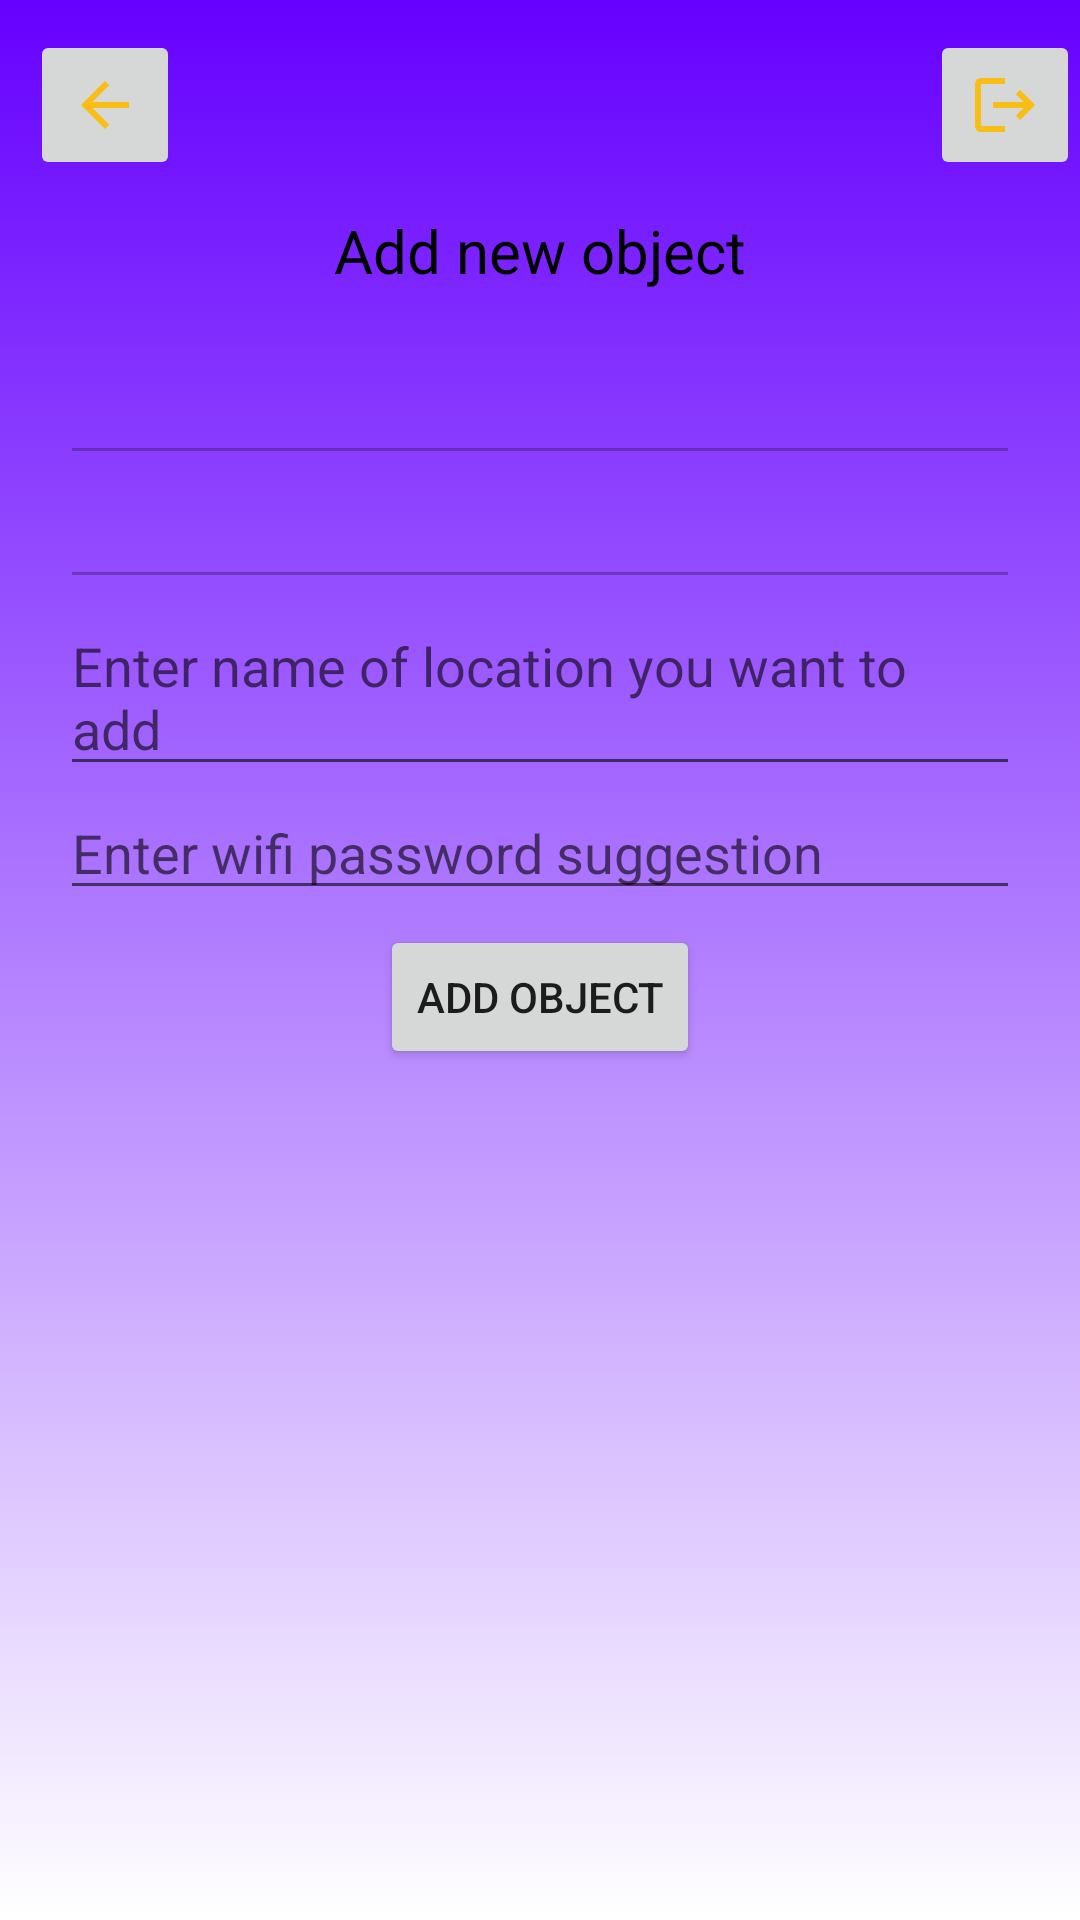

Screen size 1080 × 1920. Icon name, then its box in pixels as bbox(x1, y1, x2, y2):
arrow back: bbox(42, 48, 168, 162)
